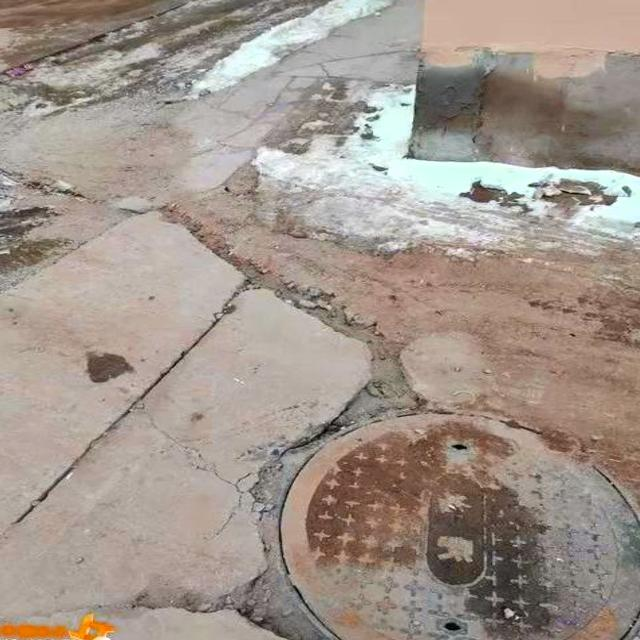circle: (163, 390, 633, 640)
